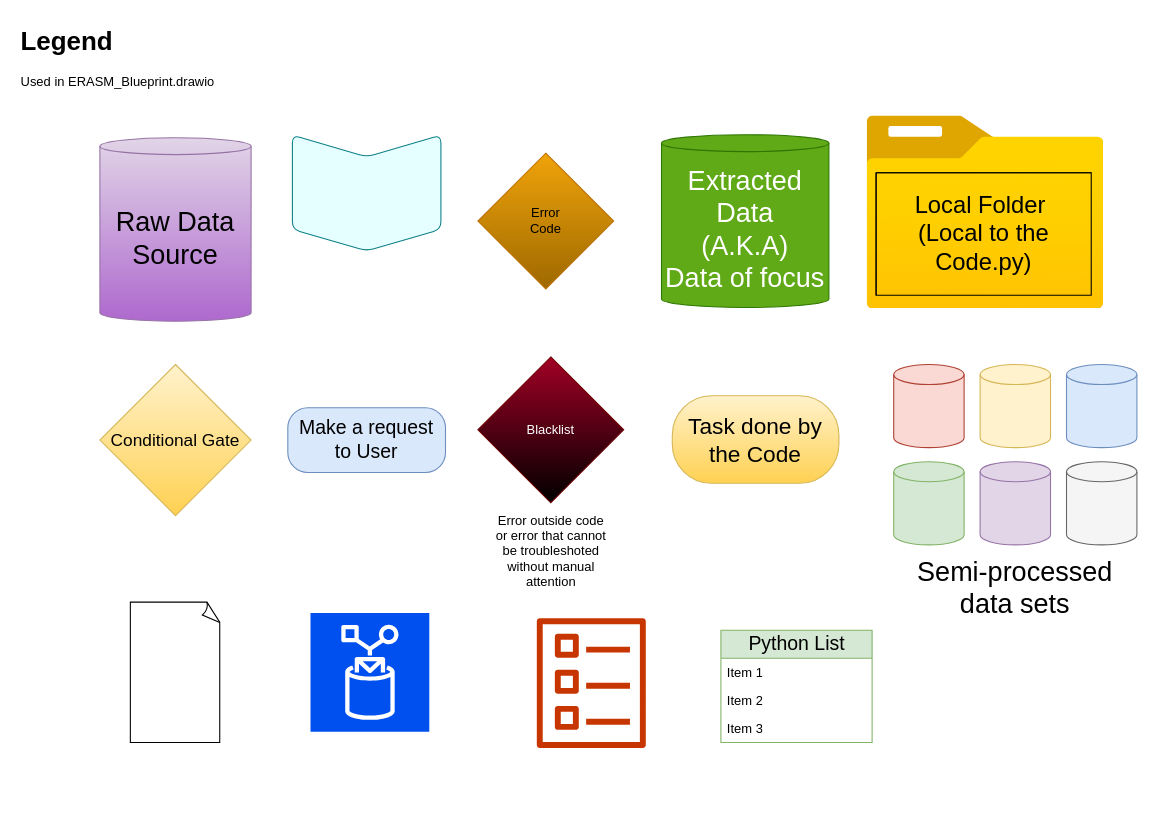
Some shapes in this 1156 by 813 pixel diagram are drawn without their labels. Each missing label, with the box of its shape:
.txt file (Could also be .csv): (129, 601, 221, 742)
Sorting Rules aka Sorting System: (309, 612, 429, 732)
Template: (509, 601, 672, 764)
Value stored in Variable: (291, 134, 441, 251)
